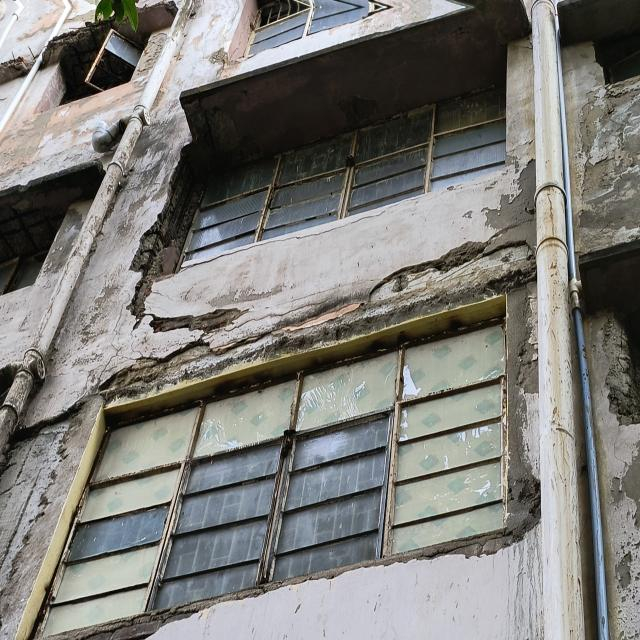peeling: (98, 56, 640, 640), (0, 399, 92, 640)
spalling: (49, 525, 510, 636), (111, 84, 285, 340), (42, 0, 177, 83), (1, 160, 108, 252), (0, 40, 37, 80)
